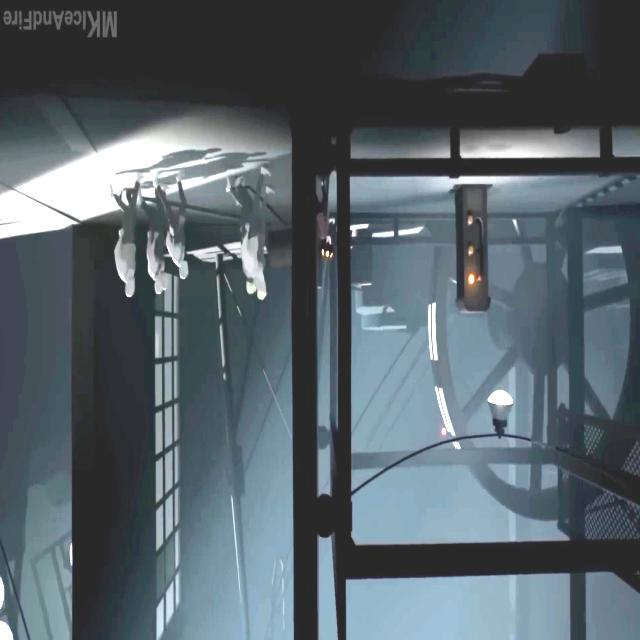boy: (315, 176, 335, 246)
zombie: (226, 168, 270, 290), (108, 178, 140, 297), (153, 172, 188, 279), (140, 182, 165, 294)
